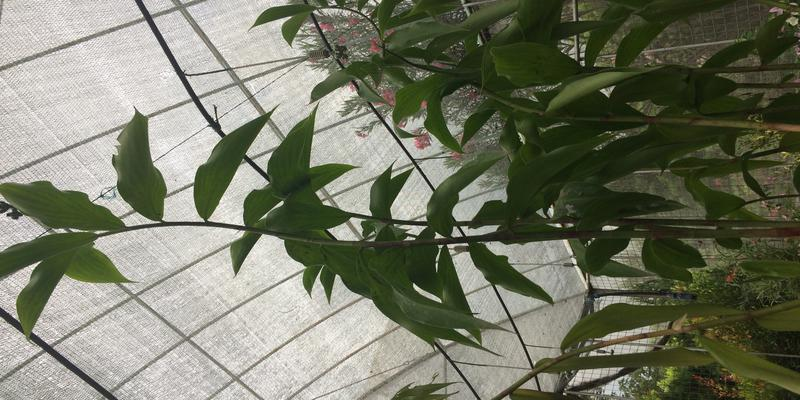Insulin: (16, 112, 727, 354)
